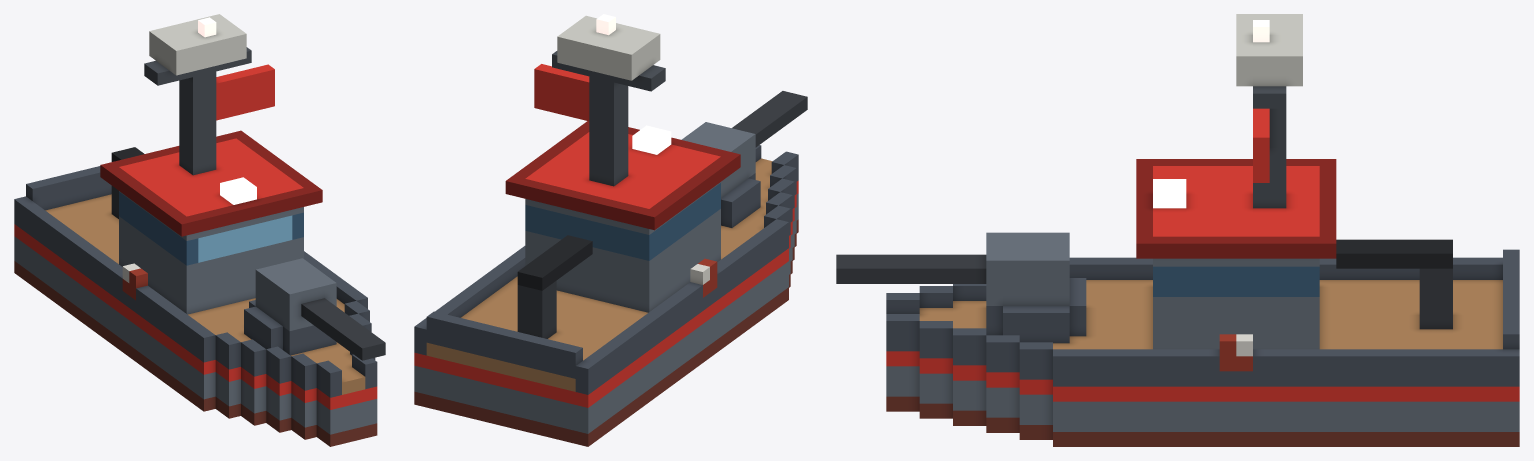
The model's file is cm_gunboat_0.glb.
3 views of the same model, side by side, from view 1: azimuth 30°, elevation 25°; view 2: azimuth 150°, elevation 25°; view 3: azimuth 270°, elevation 25° (orthographic). The views are drawn at different scales.
Parts seen in each view (by area): view 1: cm_gunboat_0_body; view 2: cm_gunboat_0_body; view 3: cm_gunboat_0_body.
Boxes of the visible parts, x1=… form: cm_gunboat_0_body: x1=14, y1=14, x2=385, y2=446; cm_gunboat_0_body: x1=414, y1=14, x2=807, y2=446; cm_gunboat_0_body: x1=836, y1=14, x2=1519, y2=446.
Size of the model in its own units: 0.875 by 1.56 by 2.56.
Materials: 1 (1 with a texture image).
